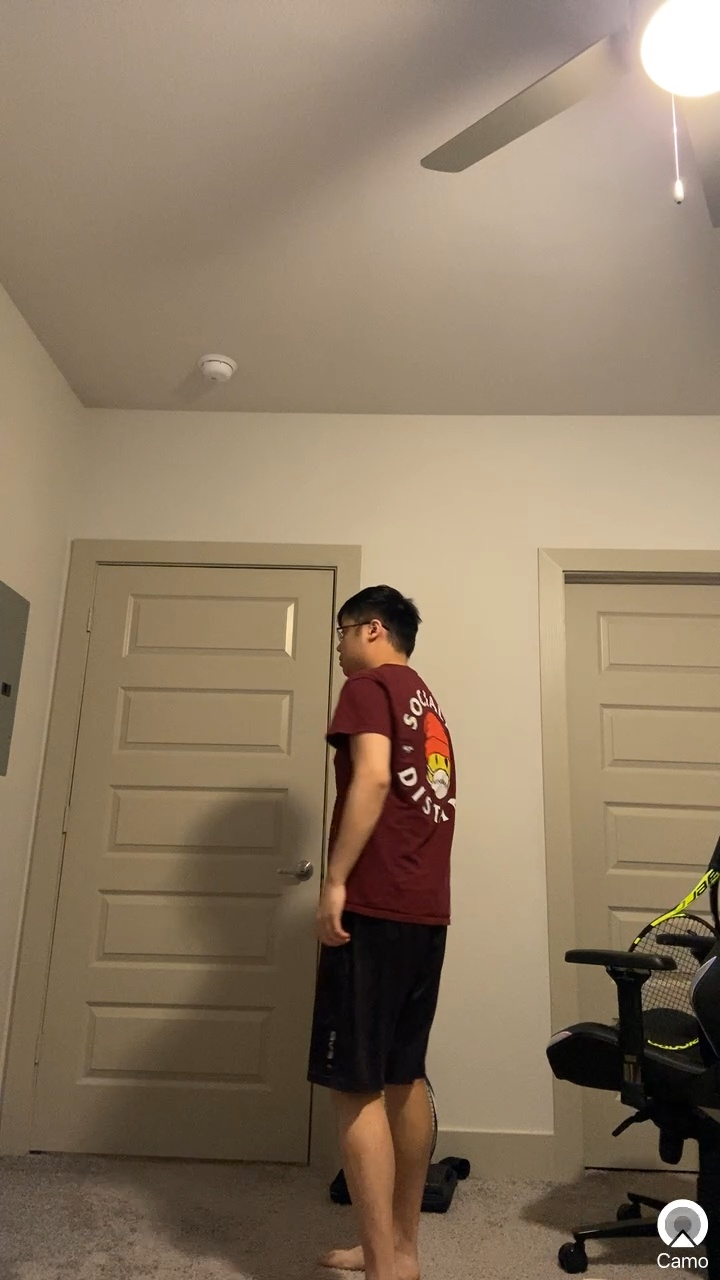Person: (273, 568, 504, 1280)
